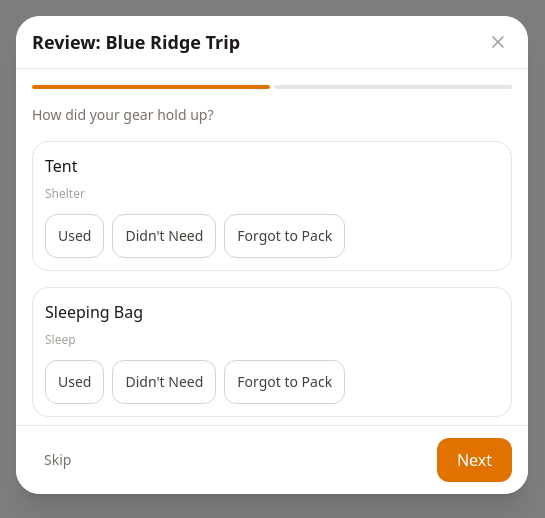
Submit › shows inline error when fetch fails
What coordinates should you click on to do the following:
click the button "Next"
I would click on:
 (474, 460)
Its box is [437,438,512,482].
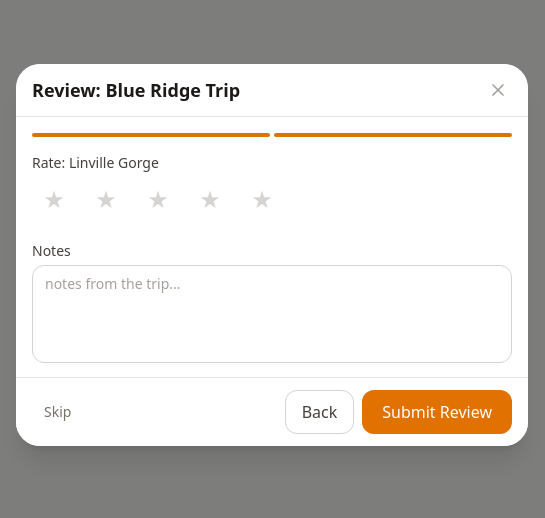
What coordinates should you click on to do the following:
click the button "Submit Review"
I would click on:
 (437, 412)
Its box is [362,390,512,434].
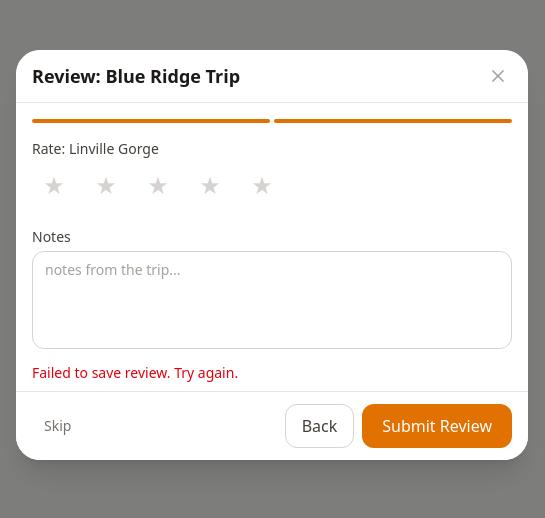
Result: the text "Failed to save review. Try again." is shown at [32,363,238,382]
